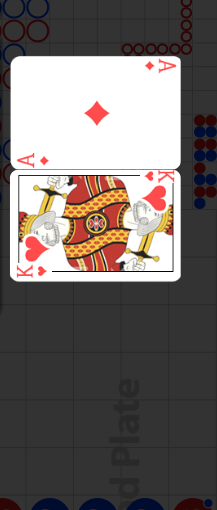AD: (17, 151, 52, 168)
KH: (15, 264, 48, 279)
